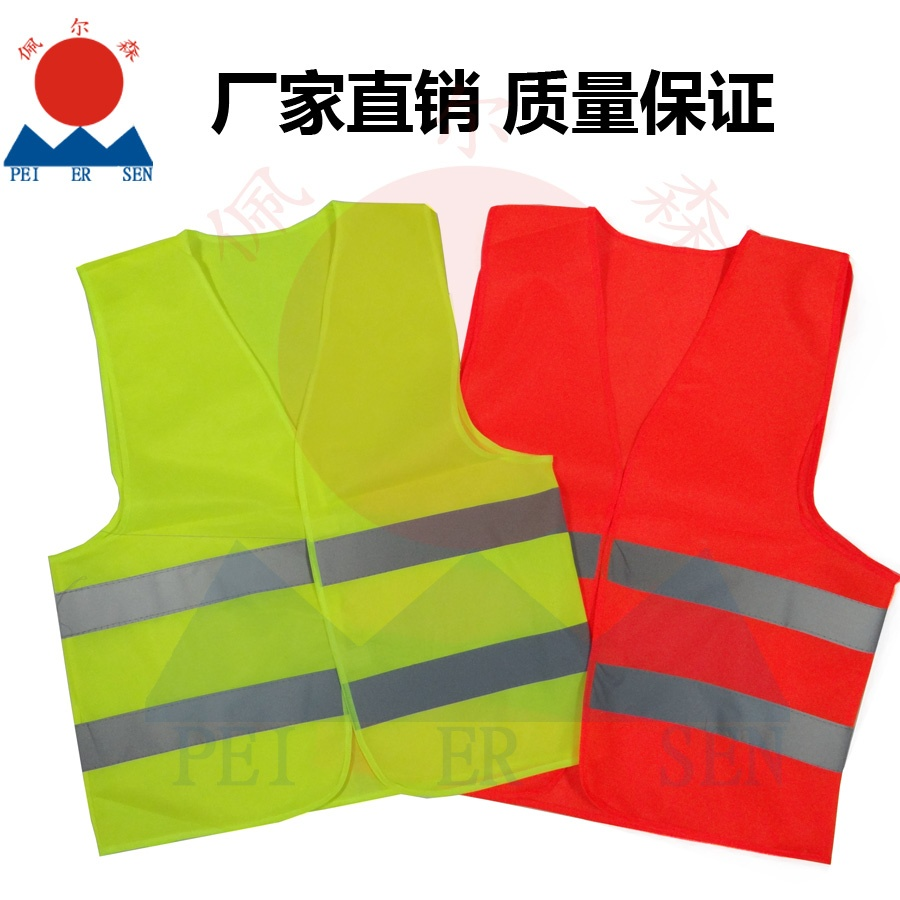safety vest: (64, 224, 558, 813), (460, 191, 879, 874)
